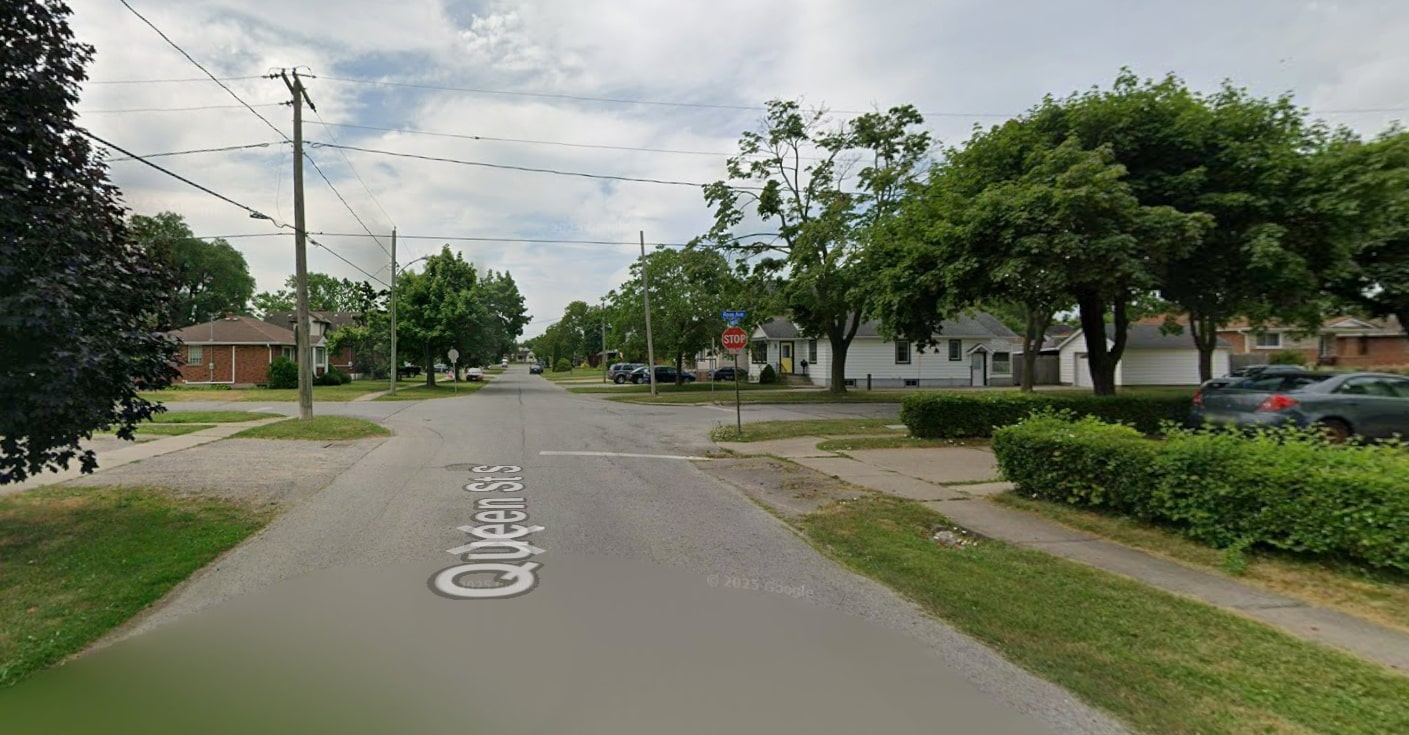cracks: (577, 429, 662, 494)
